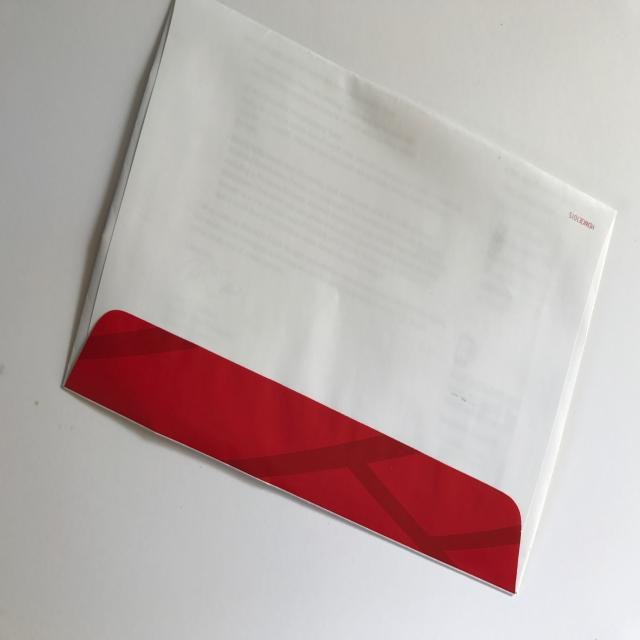paper: (65, 1, 620, 602)
